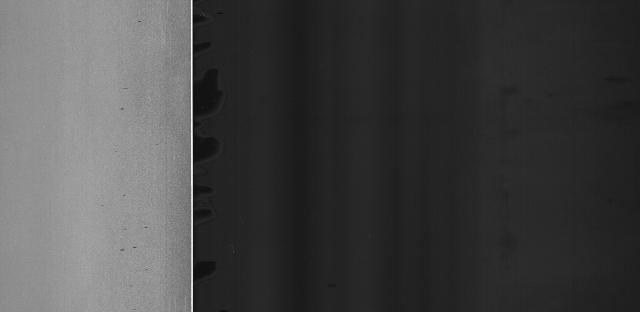inclusion: (117, 243, 139, 254), (117, 103, 129, 116)
